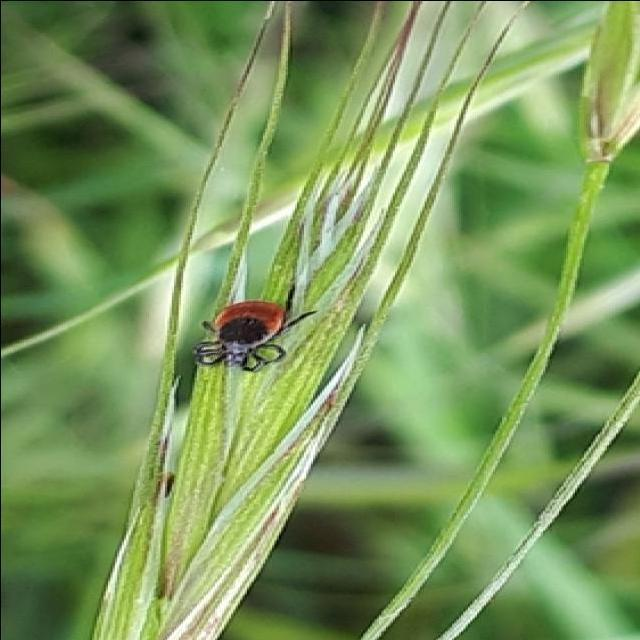Ixodes Ricinus-F: (191, 280, 317, 371)
